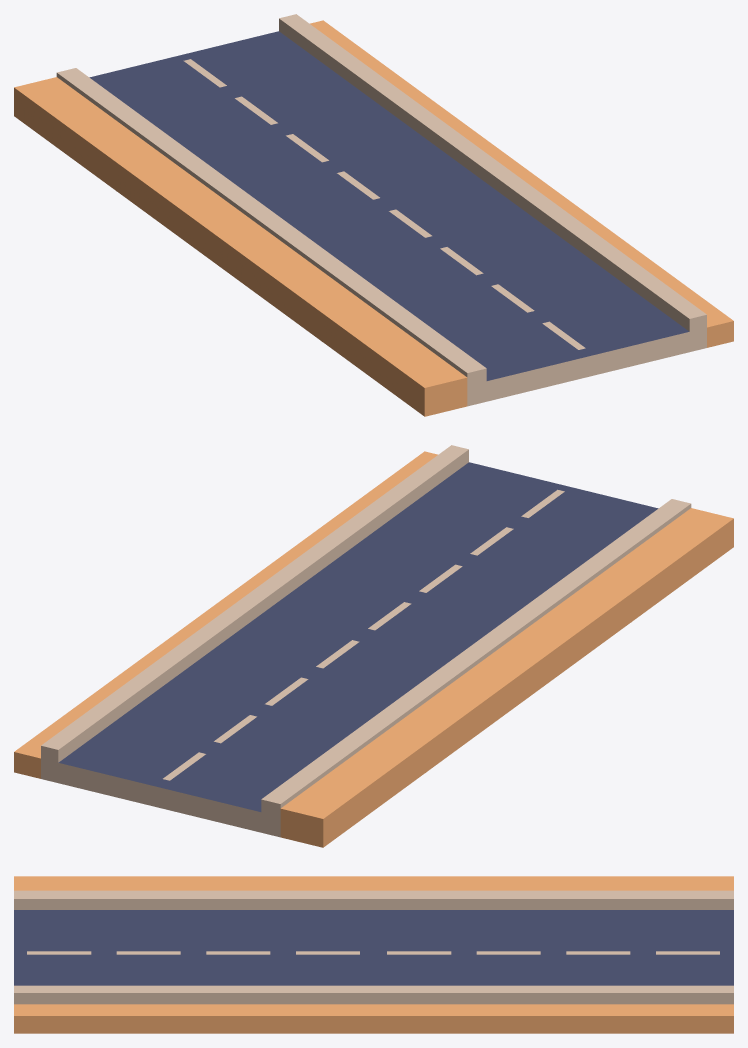
The model's file is Yol-Revize.fbx.
The picture shows the model from 3 angles, top to bottom: view 1: azimuth 30°, elevation 25°; view 2: azimuth 150°, elevation 25°; view 3: azimuth 270°, elevation 25°; orthographic projection. The views are drawn at different scales.
Parts seen in each view (by area): view 1: Cube; view 2: Cube; view 3: Cube.
Boxes of the visible parts, x1,y1,x2,y2 form: Cube: (14,14,733,416); Cube: (14,445,733,847); Cube: (14,876,733,1033).
Bounding box in the file's own units: 1001 × 103 × 2301.
